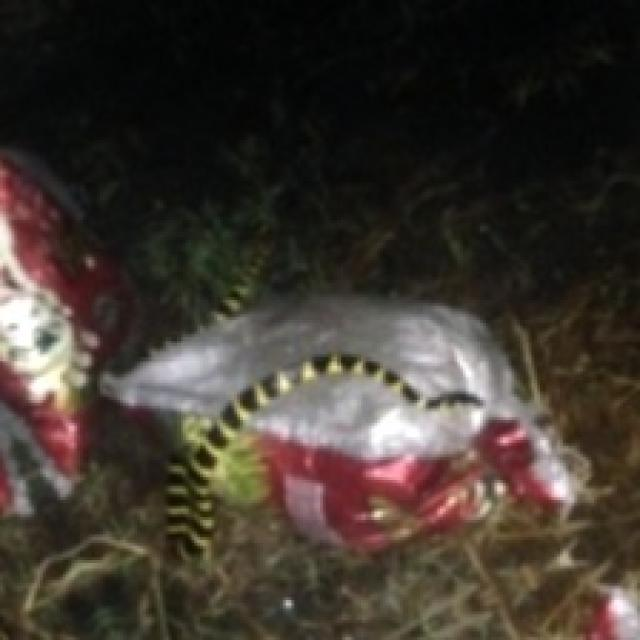mangrove cat snake: (166, 354, 484, 554)
